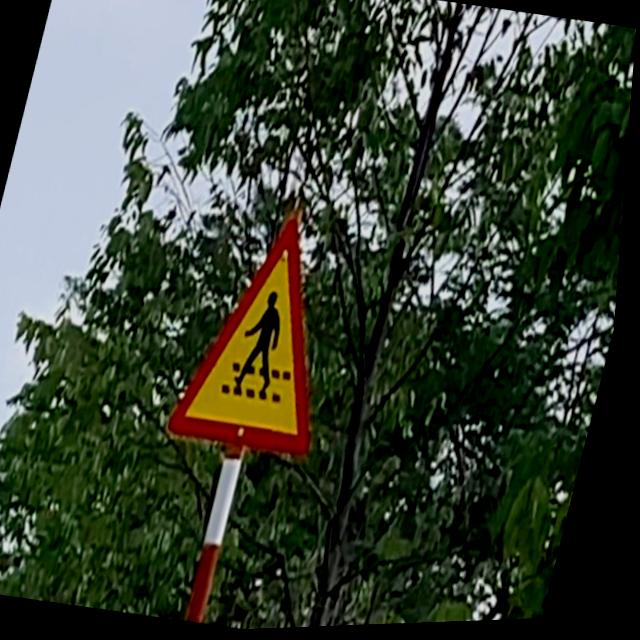Nguoi di bo cat ngang: (168, 196, 372, 466)
